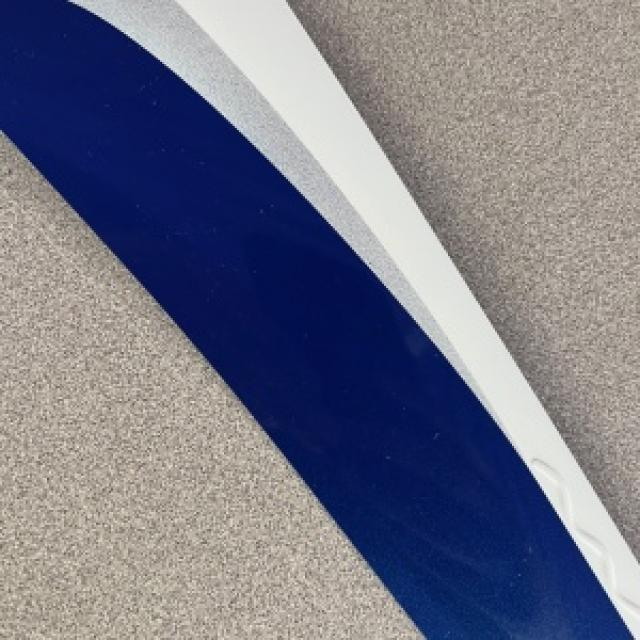healthy: (0, 0, 627, 638)
